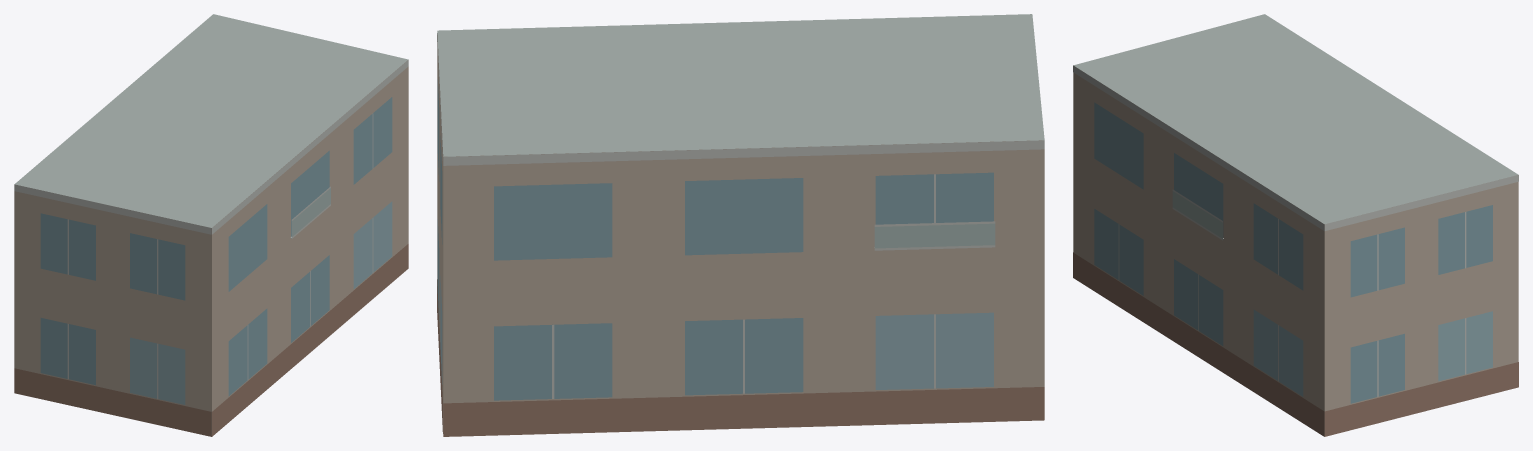
File: survey-upis-32621821.glb
3 renders of one model, left to right at view 1: azimuth 30°, elevation 25°; view 2: azimuth 150°, elevation 25°; view 3: azimuth 270°, elevation 25°, orthographic. The views are drawn at different scales.
Visible parts, largest first — view 1: survey-upis-32621821.tmp; view 2: survey-upis-32621821.tmp; view 3: survey-upis-32621821.tmp.
Boxes of the visible parts, x1=… form: survey-upis-32621821.tmp: x1=14, y1=14, x2=408, y2=436; survey-upis-32621821.tmp: x1=437, y1=14, x2=1044, y2=436; survey-upis-32621821.tmp: x1=1073, y1=14, x2=1518, y2=436.
Size of the model in its own units: 15.93 by 7.5 by 14.26.
